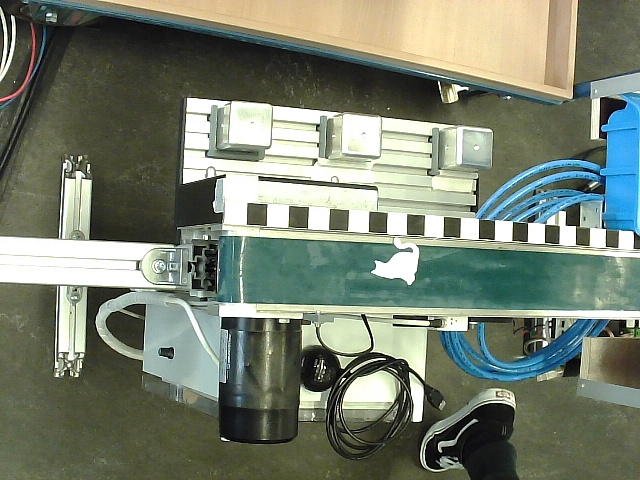cat: (370, 237, 421, 287)
